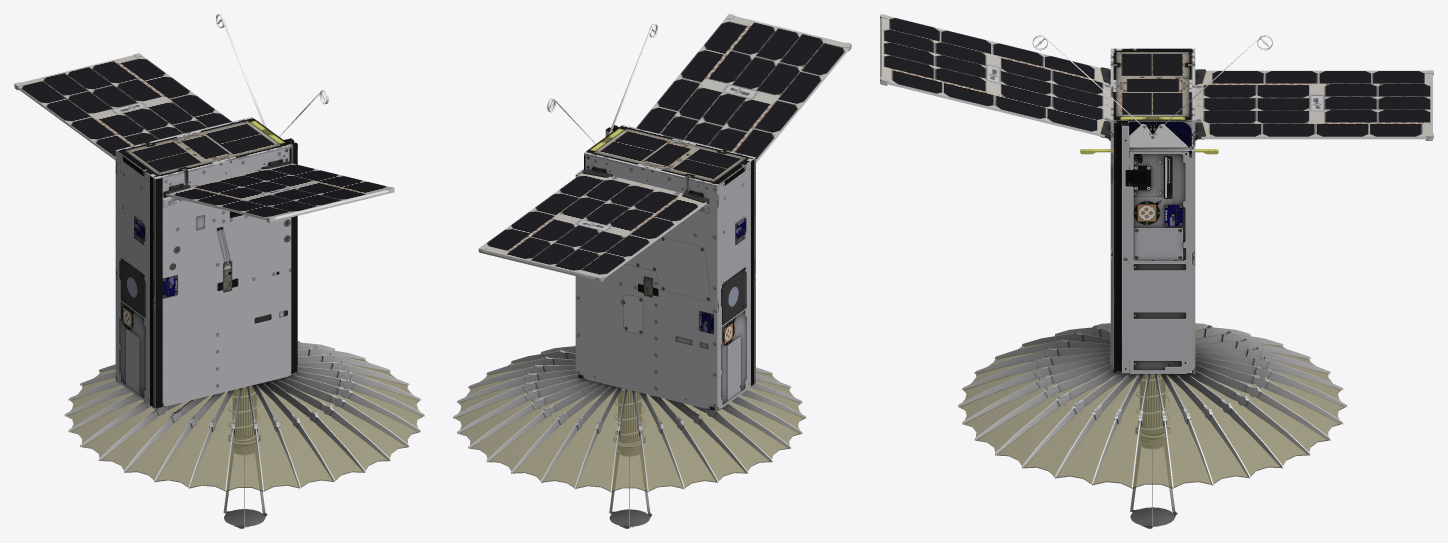
File: Raincube.glb
3 views of the same model, side by side, from view 1: azimuth 30°, elevation 25°; view 2: azimuth 150°, elevation 25°; view 3: azimuth 270°, elevation 25° (orthographic). The views are drawn at different scales.
Visible parts, largest first — view 1: BUS, HGA_mesh, HGA ribs, Array_Left, Array_Right, HGA; view 2: BUS, HGA_mesh, Array_Right, Array_Left, HGA ribs, HGA; view 3: BUS, HGA_mesh, HGA ribs, Array_Left, Array_Right, HGA.
Part boxes in pixels (left/top/right/bottom): BUS: left=115, top=14, right=328, bottom=408; HGA_mesh: left=66, top=350, right=423, bottom=491; HGA ribs: left=64, top=341, right=424, bottom=491; Array_Left: left=14, top=53, right=231, bottom=160; Array_Right: left=163, top=159, right=394, bottom=222; HGA: left=223, top=386, right=267, bottom=528; BUS: left=547, top=24, right=755, bottom=411; HGA_mesh: left=454, top=353, right=804, bottom=491; Array_Right: left=636, top=14, right=851, bottom=162; Array_Left: left=478, top=166, right=709, bottom=282; HGA ribs: left=453, top=345, right=806, bottom=492; HGA: left=609, top=390, right=651, bottom=528; BUS: left=1032, top=35, right=1272, bottom=373; HGA_mesh: left=959, top=329, right=1344, bottom=488; HGA ribs: left=958, top=323, right=1347, bottom=488; Array_Left: left=1195, top=69, right=1433, bottom=140; Array_Right: left=880, top=14, right=1110, bottom=140; HGA: left=1130, top=374, right=1177, bottom=528.
Size of the model in its own units: 0.5149 by 0.7283 by 0.7358.
Materials: 9 (5 with a texture image).
